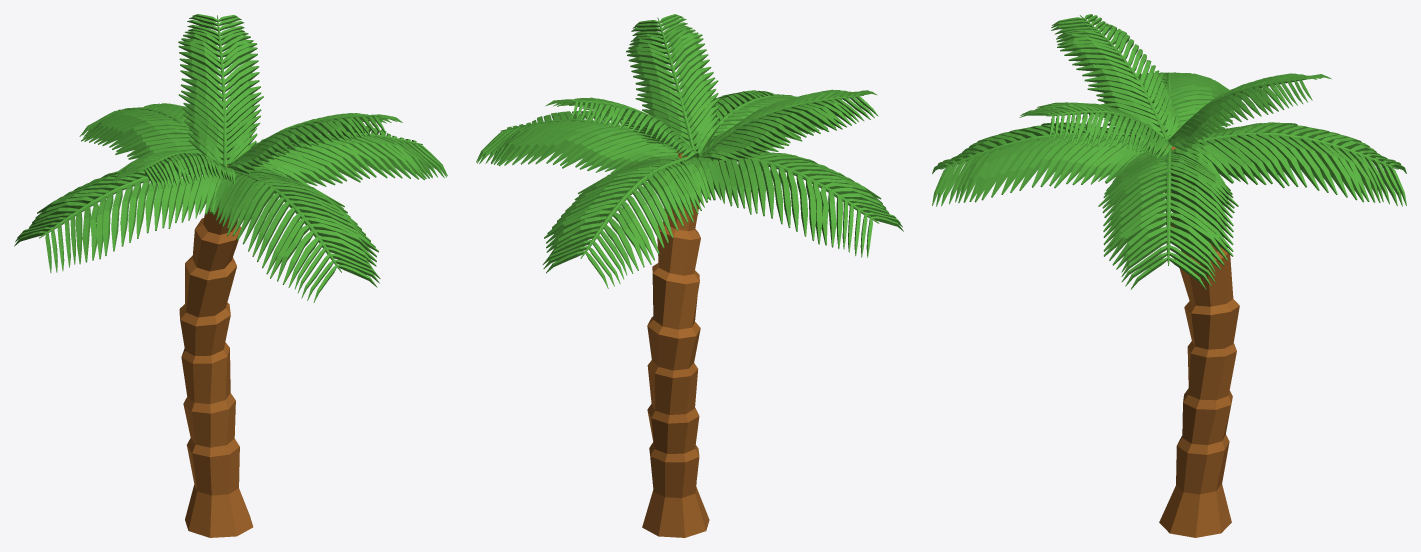
File: ENVI_LV2-3_kelapa1.fbx
The picture shows the model from 3 angles, left to right: view 1: azimuth 30°, elevation 25°; view 2: azimuth 150°, elevation 25°; view 3: azimuth 270°, elevation 25°; orthographic projection. The views are drawn at different scales.
Visible parts, largest first — view 1: kelapa1; view 2: kelapa1; view 3: kelapa1.
Part boxes in pixels (left/top/right/bottom): kelapa1: left=14, top=14, right=447, bottom=537; kelapa1: left=476, top=14, right=903, bottom=537; kelapa1: left=932, top=14, right=1406, bottom=537.
Bounding box in the file's own units: 504 × 553 × 506.
